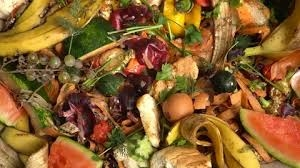kitchen_waste: (1, 1, 108, 61), (163, 110, 262, 168), (235, 102, 299, 168), (238, 1, 300, 61), (129, 88, 170, 149), (63, 94, 109, 143), (44, 132, 106, 168), (157, 1, 203, 42), (1, 71, 31, 132), (257, 47, 300, 84), (158, 90, 201, 125), (87, 68, 131, 100), (109, 4, 155, 33), (210, 69, 239, 95), (56, 69, 75, 85), (46, 53, 62, 70), (62, 52, 79, 67), (26, 52, 41, 66)
